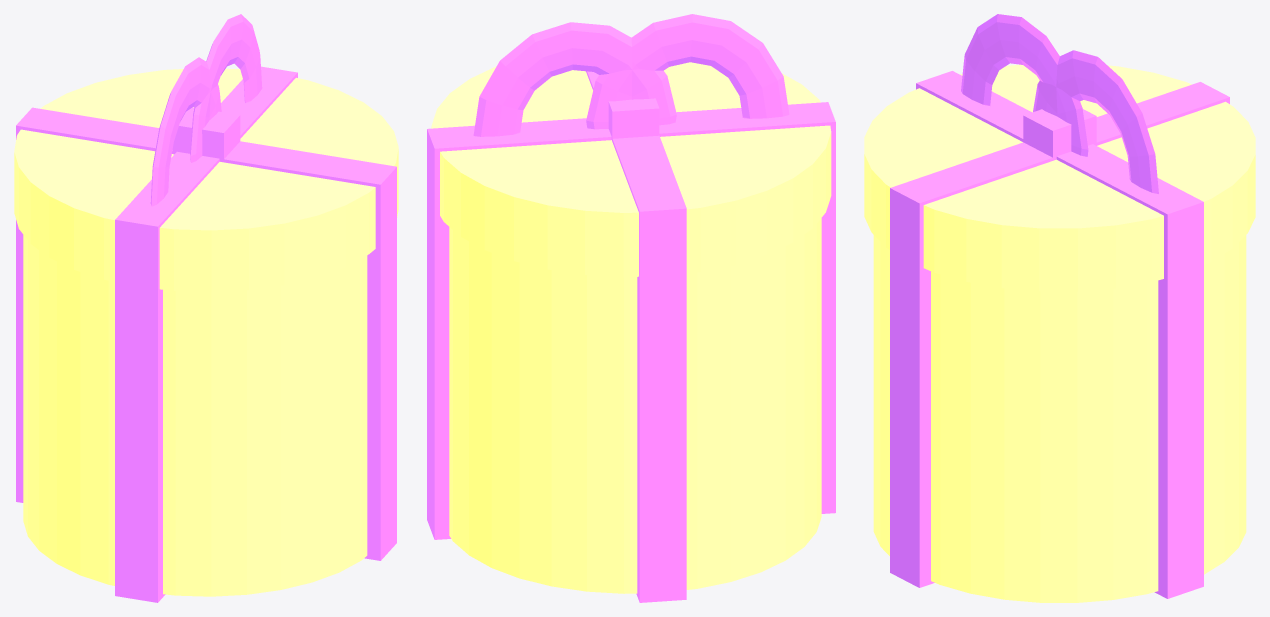
The model's file is Tmpl_Round_Root_223.glb.
3 views of the same model, side by side, from view 1: azimuth 30°, elevation 25°; view 2: azimuth 150°, elevation 25°; view 3: azimuth 270°, elevation 25° (orthographic). The views are drawn at different scales.
Visible parts, largest first — view 1: Tmpl_Round_Base.221, Tmpl_Round_Lid.221, Tmpl_Round_Ribbon_X.221, Tmpl_Round_Ribbon_Y.221, Tmpl_Round_BowL.221, Tmpl_Round_BowR.221, Tmpl_Round_BowKnot.221; view 2: Tmpl_Round_Base.221, Tmpl_Round_Lid.221, Tmpl_Round_Ribbon_Y.221, Tmpl_Round_Ribbon_X.221, Tmpl_Round_BowR.221, Tmpl_Round_BowL.221, Tmpl_Round_BowKnot.221; view 3: Tmpl_Round_Base.221, Tmpl_Round_Lid.221, Tmpl_Round_Ribbon_X.221, Tmpl_Round_Ribbon_Y.221, Tmpl_Round_BowR.221, Tmpl_Round_BowL.221, Tmpl_Round_BowKnot.221.
Part boxes in pixels (box(x1,y1,x2,y2)): Tmpl_Round_Base.221: box(23, 235, 367, 596); Tmpl_Round_Lid.221: box(14, 68, 398, 291); Tmpl_Round_Ribbon_X.221: box(115, 66, 297, 602); Tmpl_Round_Ribbon_Y.221: box(16, 107, 396, 560); Tmpl_Round_BowL.221: box(190, 14, 262, 162); Tmpl_Round_BowR.221: box(150, 57, 221, 206); Tmpl_Round_BowKnot.221: box(172, 107, 240, 162); Tmpl_Round_Base.221: box(449, 218, 821, 593); Tmpl_Round_Lid.221: box(431, 62, 831, 277); Tmpl_Round_Ribbon_Y.221: box(586, 71, 686, 602); Tmpl_Round_Ribbon_X.221: box(427, 102, 835, 539); Tmpl_Round_BowR.221: box(586, 14, 789, 129); Tmpl_Round_BowL.221: box(473, 22, 676, 136); Tmpl_Round_BowKnot.221: box(608, 98, 659, 138); Tmpl_Round_Base.221: box(873, 235, 1246, 602); Tmpl_Round_Lid.221: box(864, 64, 1255, 291); Tmpl_Round_Ribbon_X.221: box(916, 71, 1203, 598); Tmpl_Round_Ribbon_Y.221: box(890, 82, 1229, 587); Tmpl_Round_BowR.221: box(961, 14, 1088, 156); Tmpl_Round_BowL.221: box(1033, 50, 1158, 193); Tmpl_Round_BowKnot.221: box(1023, 109, 1096, 160).
Size of the model in its own units: 0.9407 by 1.3 by 0.9407.
